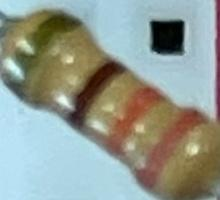Brown: (59, 58, 127, 132)
Orange: (97, 84, 171, 161)
Red: (131, 101, 213, 197)
Side-Gold: (3, 8, 91, 104)
